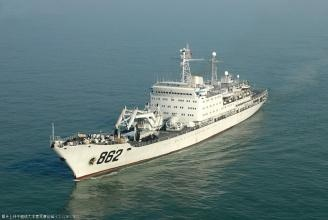warship: (45, 47, 271, 175)
